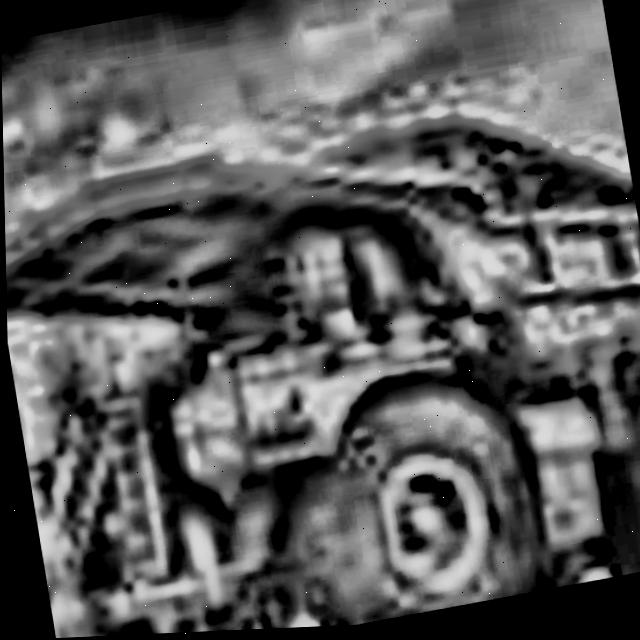dump_truck: (1, 52, 640, 640)
